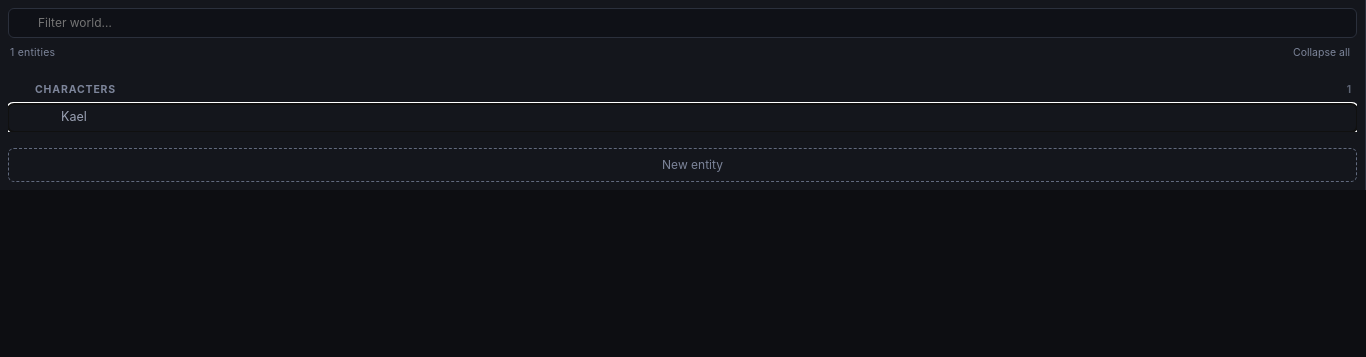
Test: Navigator context menu accessibility › opens from Shift+F10 and from the Menu key, not only from the right button
Press F10 in the button "Kael", box x1=8 y1=104 x2=1357 y2=132
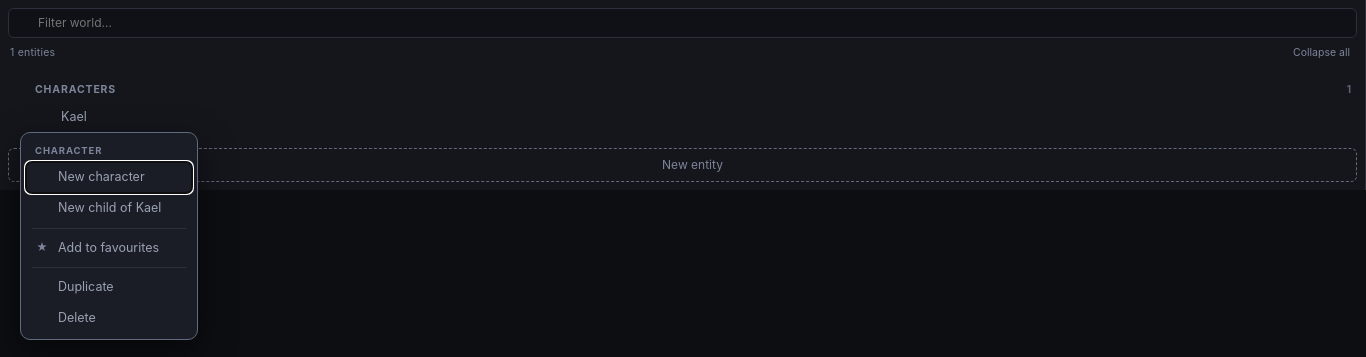
Check: the menu named "Actions for Kael" is shown, box x1=20 y1=132 x2=198 y2=340
Press Escape in the menu item "New character", box x1=26 y1=162 x2=192 y2=193
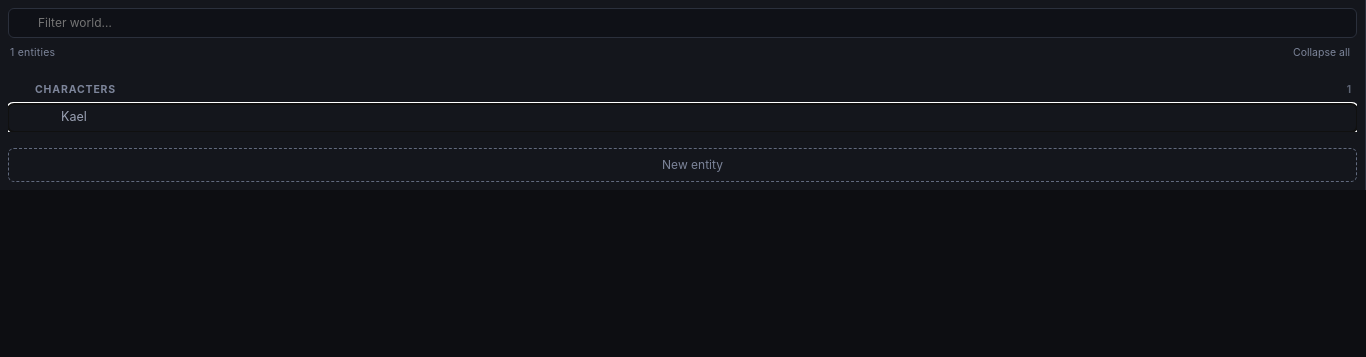
Press ContextMenu in the button "Kael", box x1=8 y1=104 x2=1357 y2=132
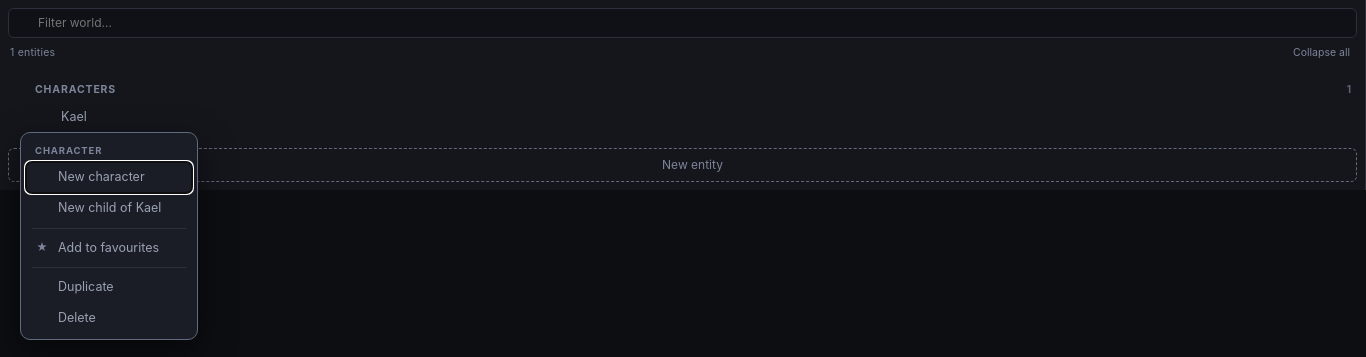
Check: the menu item "Add to favourites" is shown, box x1=26 y1=232 x2=192 y2=263
Click the menu item "New child of Kael": (109, 208) x1=26 y1=193 x2=192 y2=224
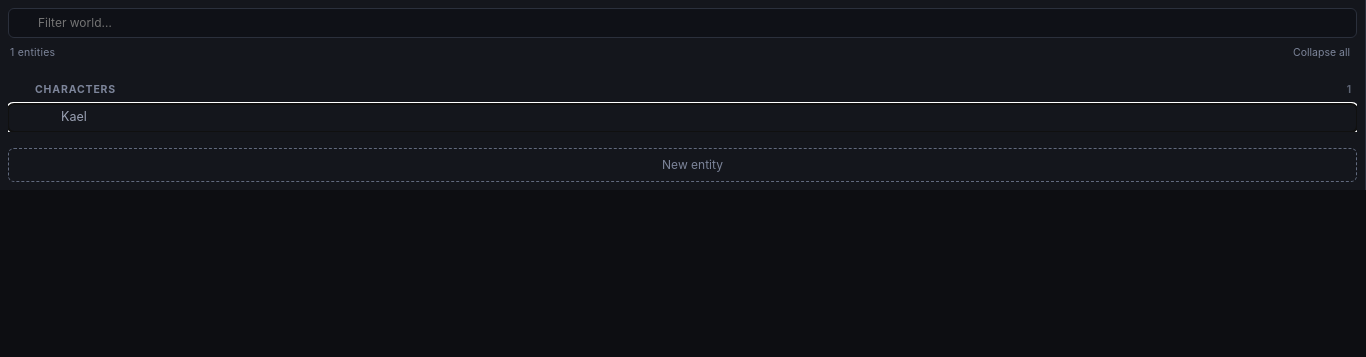
Check: the menu is gone
